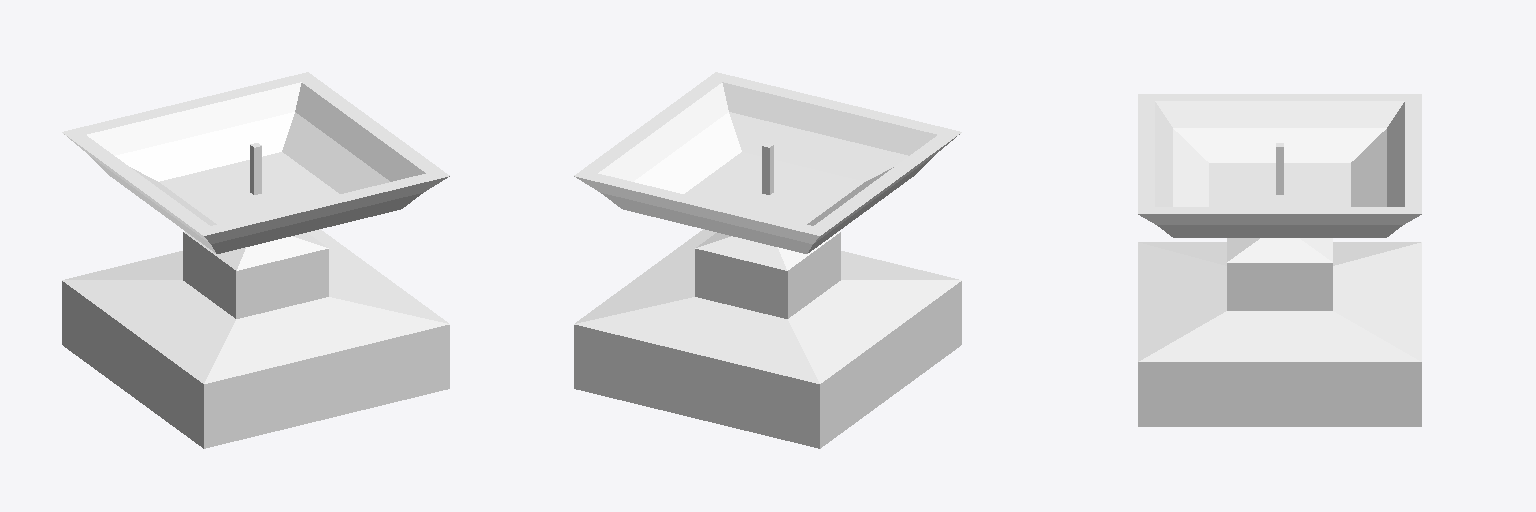
Rendered from entity_marker.obj.
3 views of the same model, side by side, from view 1: azimuth 30°, elevation 25°; view 2: azimuth 150°, elevation 25°; view 3: azimuth 270°, elevation 25° (orthographic).
Parts seen in each view (by area): view 1: Cube; view 2: Cube; view 3: Cube.
Part boxes in pixels (x1,y1,x2,y2): Cube: (62,72,449,448); Cube: (574,72,961,448); Cube: (1138,94,1421,426).
Size of the model in its own units: 1 by 0.8586 by 1.